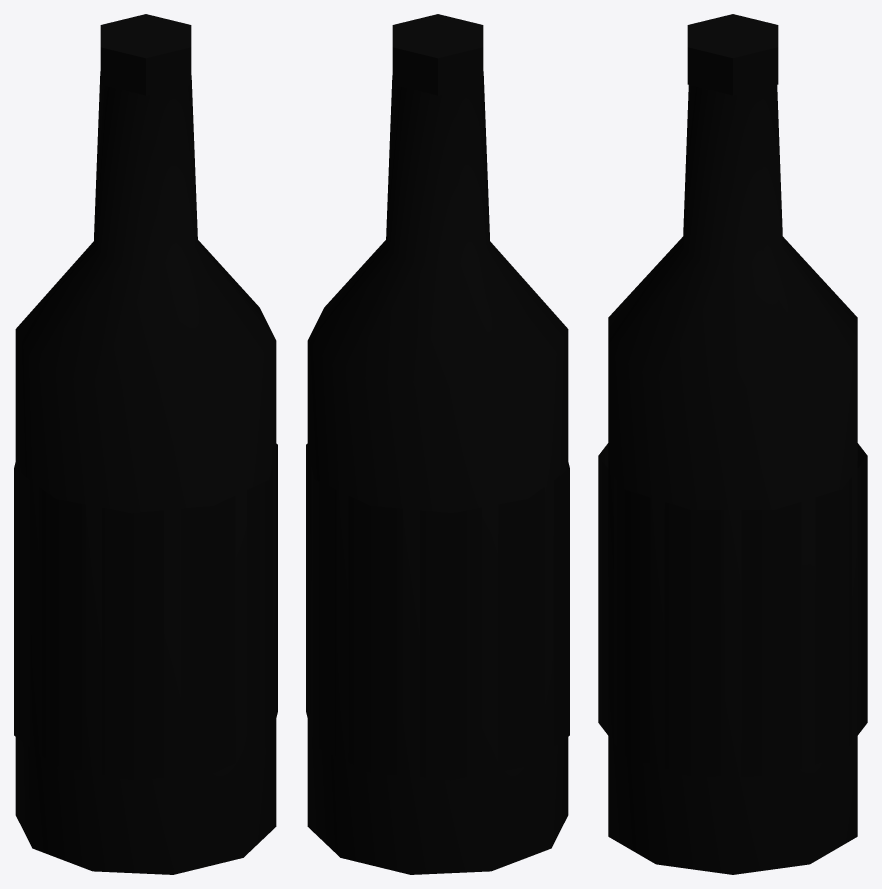
The model's file is SM_milk_bottle.fbx.
The picture shows the model from 3 angles, left to right: view 1: azimuth 30°, elevation 25°; view 2: azimuth 150°, elevation 25°; view 3: azimuth 270°, elevation 25°; orthographic projection.
Parts seen in each view (by area): view 1: milk_bottle; view 2: milk_bottle; view 3: milk_bottle.
Part boxes in pixels (x1,y1,x2,y2): milk_bottle: (14, 14, 277, 874); milk_bottle: (306, 14, 569, 874); milk_bottle: (598, 14, 867, 874).
Bounding box in the file's own units: 0.07 × 0.231 × 0.072.
